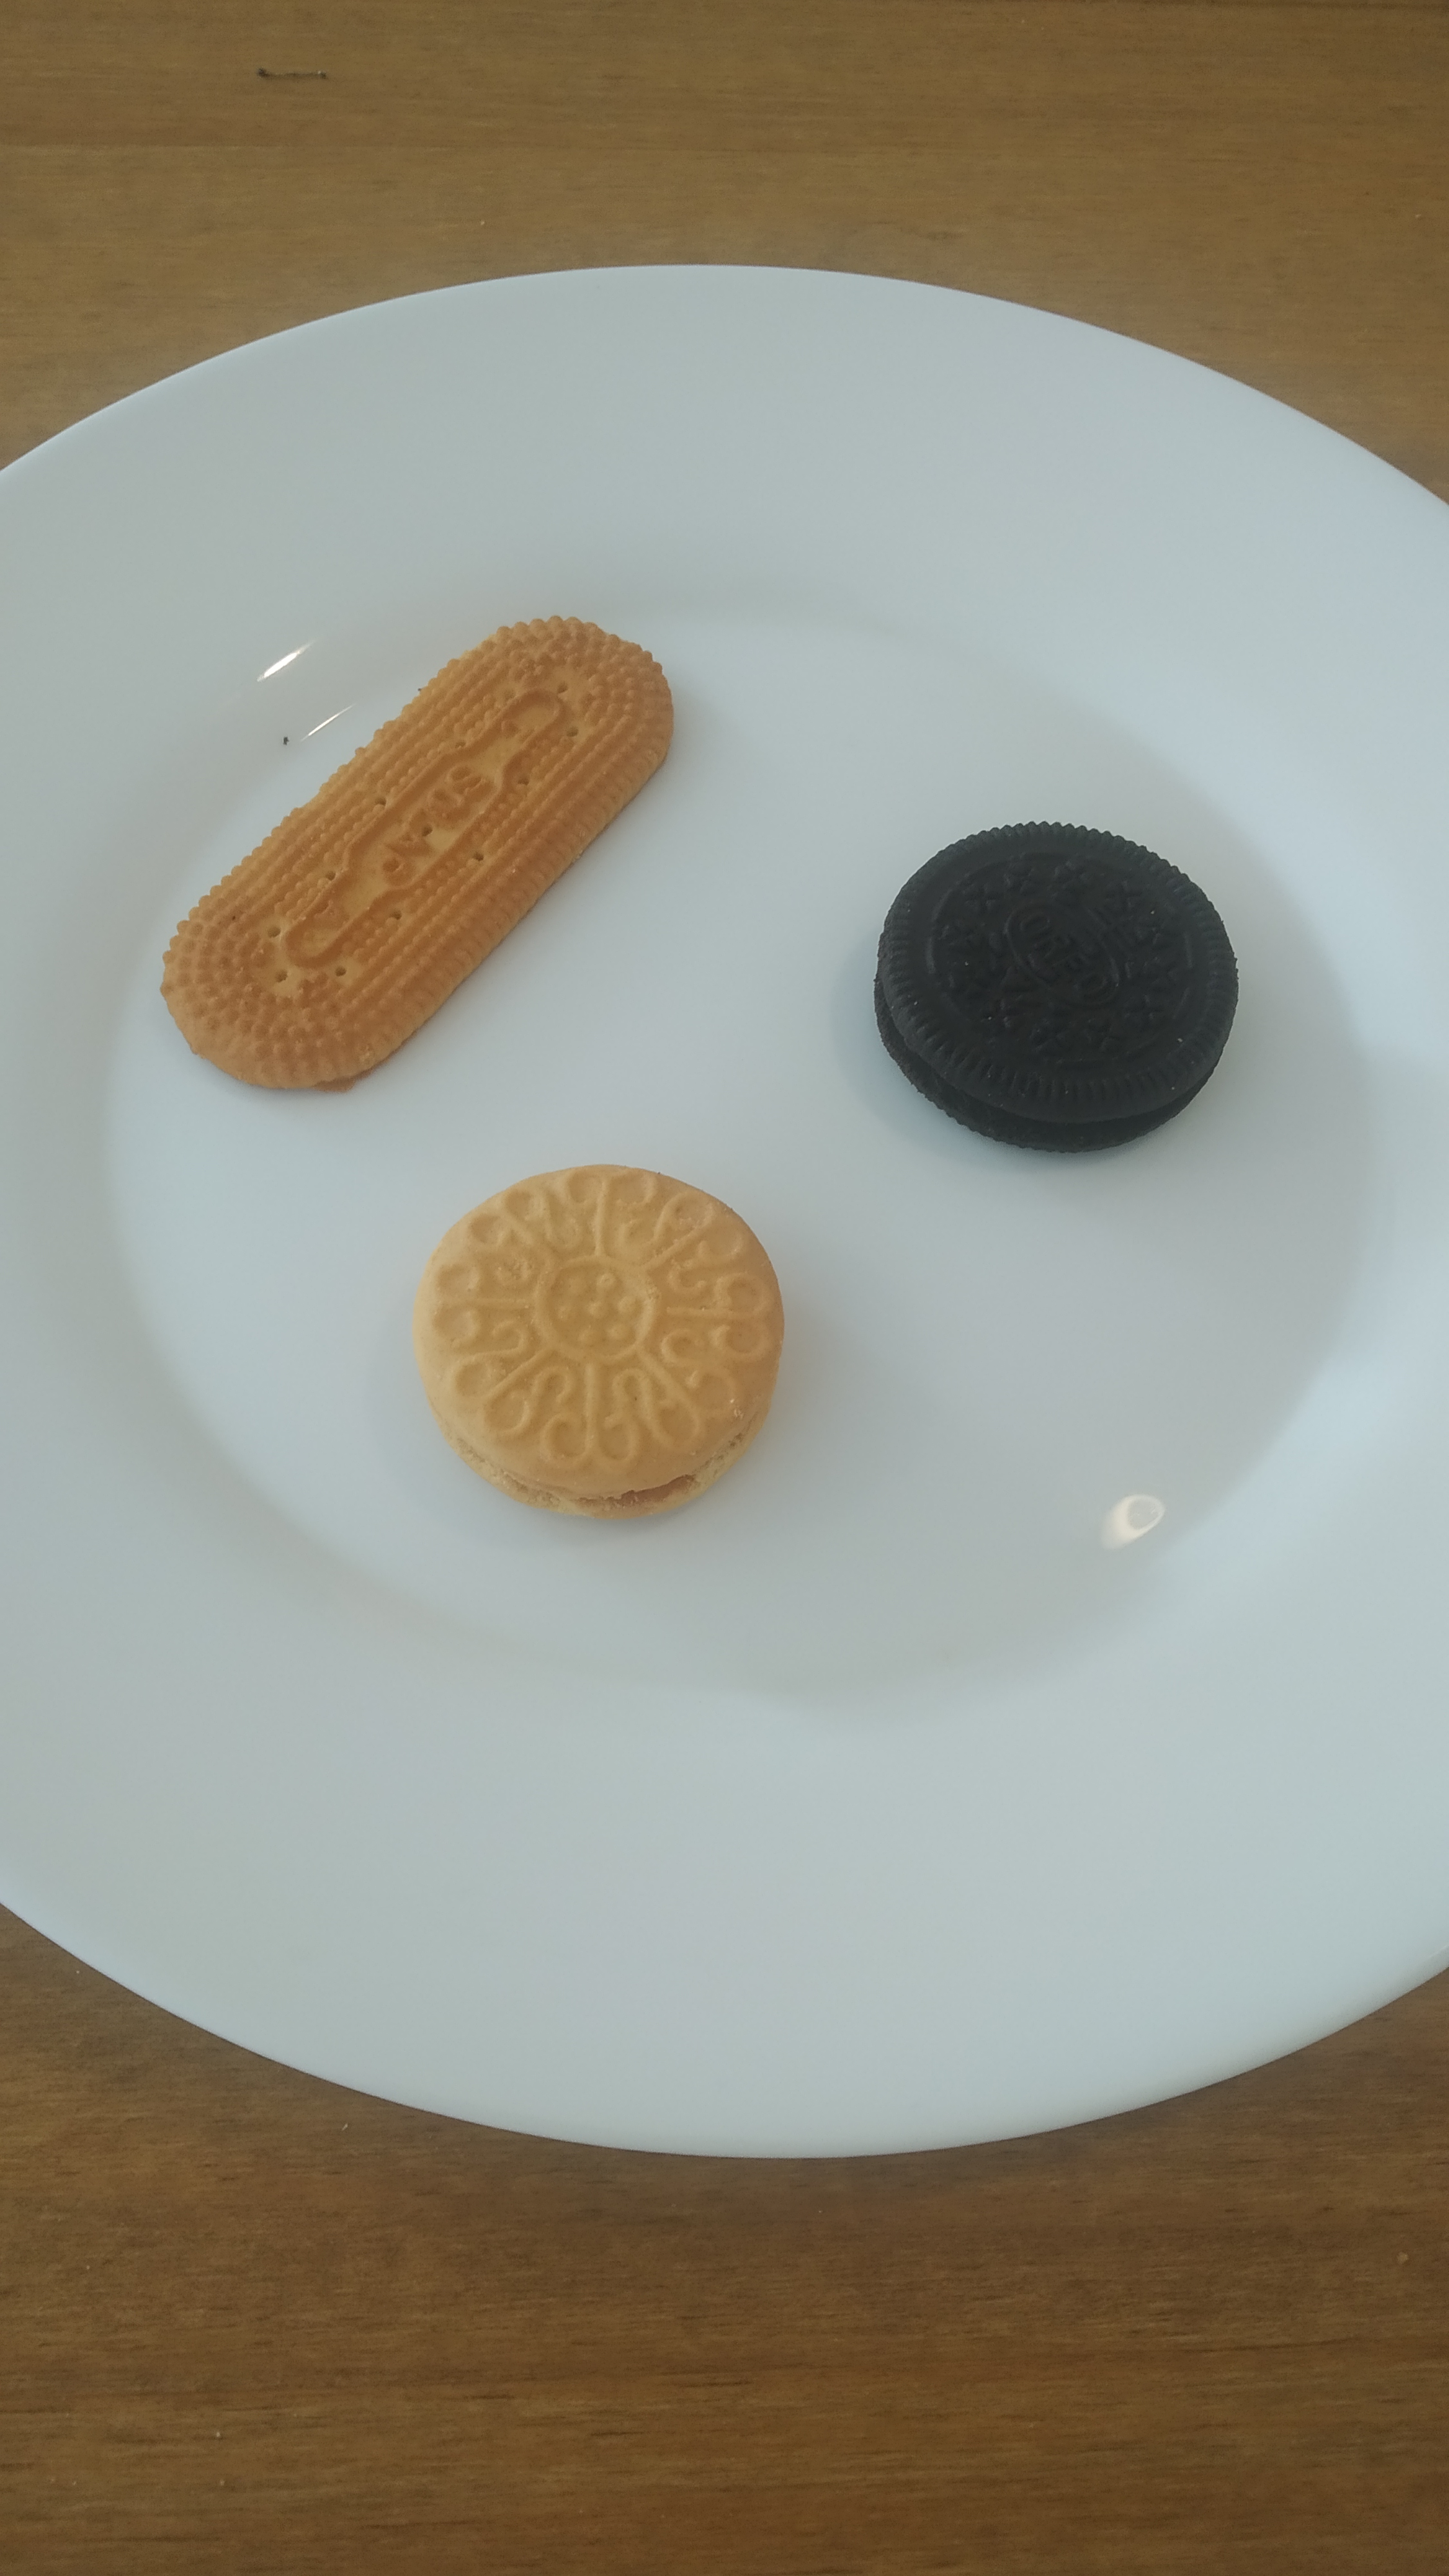lulu: (414, 1168, 787, 1518)
oreo: (874, 821, 1238, 1157)
solar: (159, 614, 676, 1090)
